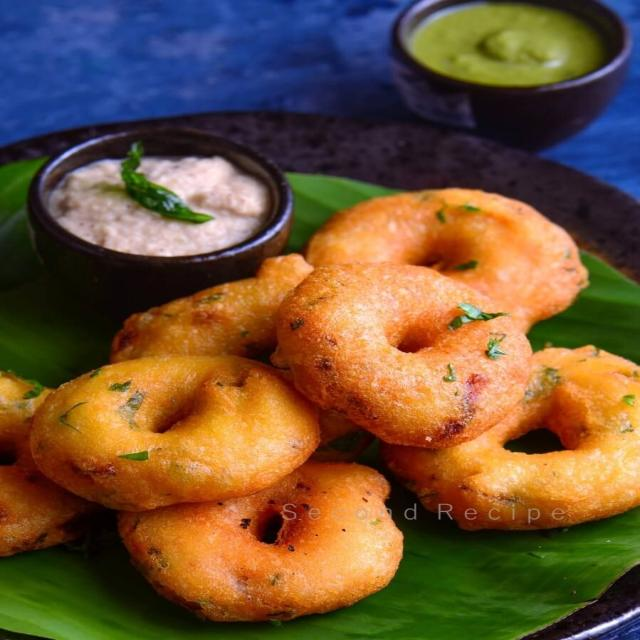GREEN CHUTNEY: (406, 1, 606, 87)
VADA: (0, 183, 638, 631)
WHITE CHUTNEY: (46, 154, 275, 258)
